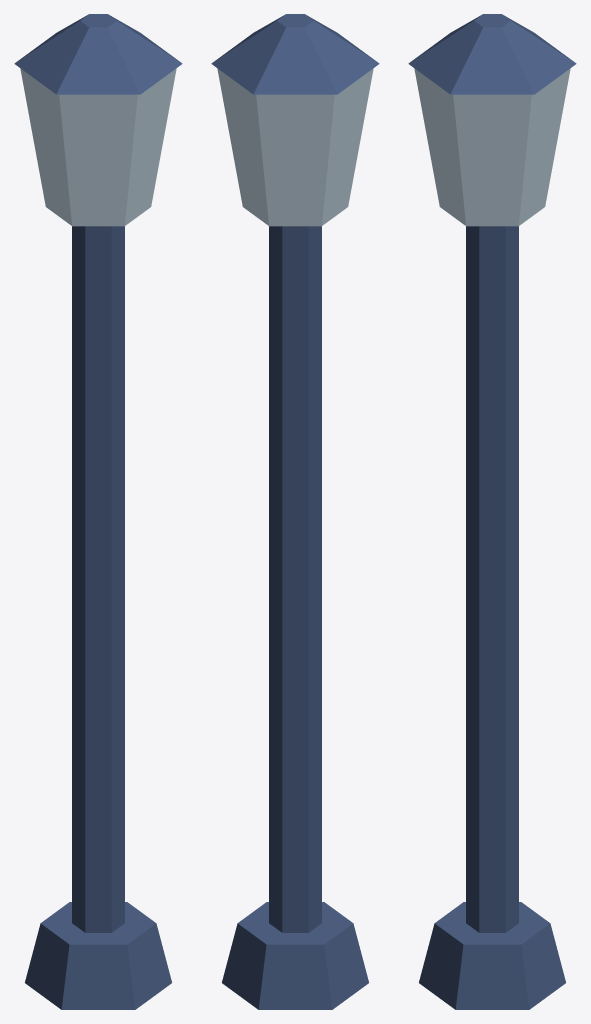
The model's file is street_lamp.glb.
3 renders of one model, left to right at view 1: azimuth 30°, elevation 25°; view 2: azimuth 150°, elevation 25°; view 3: azimuth 270°, elevation 25°, orthographic.
Visible parts, largest first — view 1: street_lamp; view 2: street_lamp; view 3: street_lamp.
Boxes of the visible parts, x1=… form: street_lamp: x1=14, y1=14, x2=182, y2=1009; street_lamp: x1=211, y1=14, x2=379, y2=1009; street_lamp: x1=408, y1=14, x2=576, y2=1009.
Size of the model in its own units: 0.5543 by 4.03 by 0.64.
